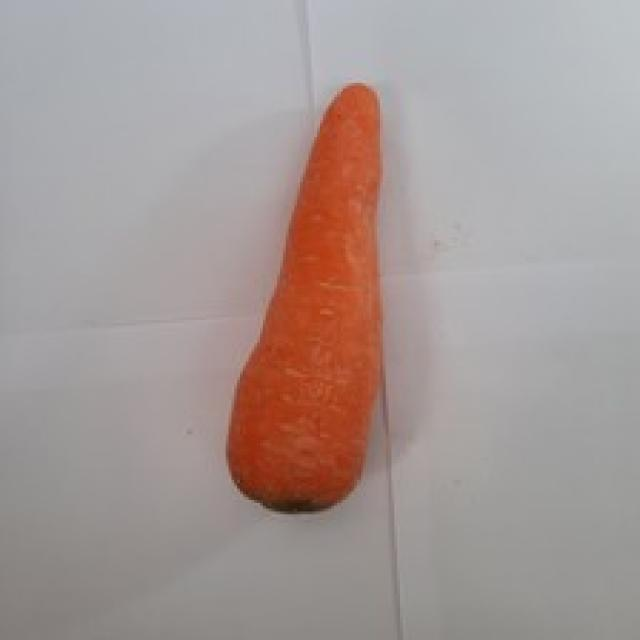Fresh_Carrot: (248, 66, 366, 516)
